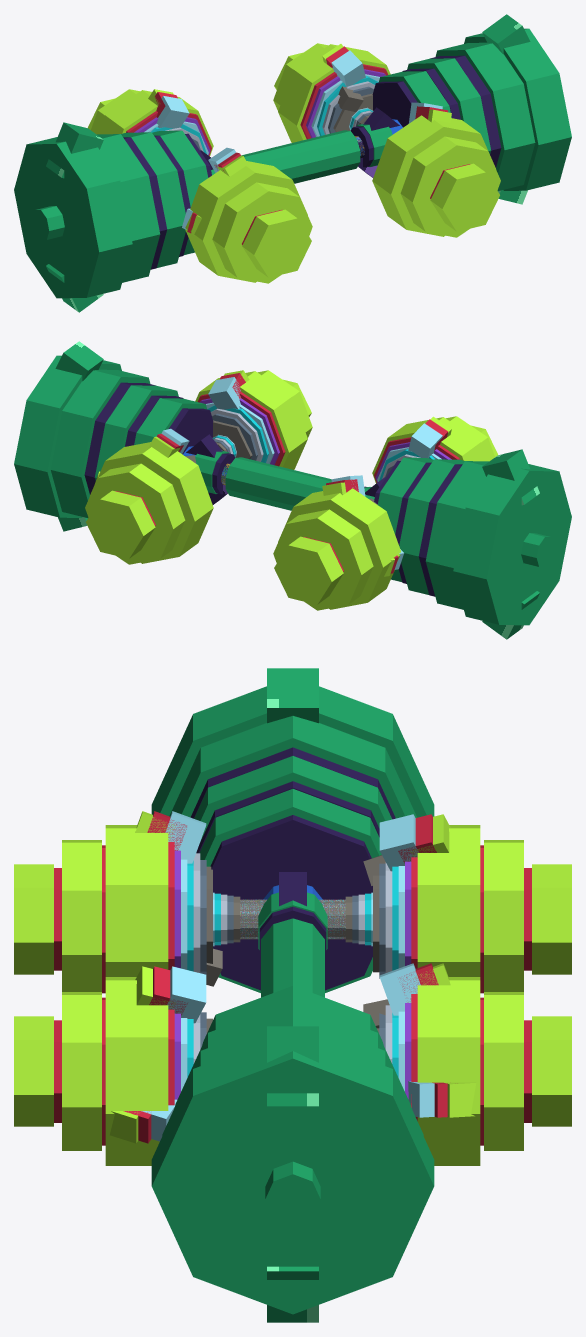
File: KLC_StrengthTools.fbx
The picture shows the model from 3 angles, top to bottom: view 1: azimuth 30°, elevation 25°; view 2: azimuth 150°, elevation 25°; view 3: azimuth 270°, elevation 25°; orthographic projection. The views are drawn at different scales.
Parts seen in each view (by area): view 1: T14_L_Plate_1, T14_R_Plate_1, T14_R_Plate_2, T15_R_Plate_B, T15_L_Outer_B, T15_R_Outer_B, T14_L_Plate_2, T15_L_Plate_B, T14_CenterGrip, T15_L_Core_B, T15_R_Core_B, T14_L_Plate_3 (+28 smaller); view 2: T14_L_Plate_1, T14_R_Plate_1, T14_R_Plate_2, T15_R_Plate_A, T15_L_Outer_A, T15_R_Outer_A, T15_L_Plate_A, T14_L_Plate_2, T14_CenterGrip, T15_L_Core_A, T15_R_Core_A, T14_L_Plate_3 (+28 smaller); view 3: T14_R_Plate_1, T12_L_Plate_4, T15_R_Plate_A, T15_L_Plate_B, T15_R_Plate_B, T14_L_Plate_1, T15_L_Plate_A, T14_L_Plate_2, T15_R_Outer_A, T15_R_Outer_B, T15_L_Outer_A, T15_L_Outer_B (+37 smaller).
Part boxes in pixels (<box>): T14_L_Plate_1: <box>14,137,132,298</box>; T14_R_Plate_1: <box>464,28,571,190</box>; T14_R_Plate_2: <box>435,42,535,190</box>; T15_R_Plate_B: <box>372,115,495,236</box>; T15_L_Outer_B: <box>212,182,312,283</box>; T15_R_Outer_B: <box>400,136,500,237</box>; T14_L_Plate_2: <box>97,134,160,282</box>; T15_L_Plate_B: <box>185,161,307,282</box>; T14_CenterGrip: <box>241,130,360,183</box>; T15_L_Core_B: <box>242,209,311,277</box>; T15_R_Core_B: <box>430,163,499,231</box>; T14_L_Plate_3: <box>121,132,185,267</box>; T14_L_Plate_1: <box>453,464,571,625</box>; T14_R_Plate_1: <box>14,355,121,517</box>; T14_R_Plate_2: <box>50,369,150,517</box>; T15_R_Plate_A: <box>90,442,213,563</box>; T15_L_Outer_A: <box>273,509,373,610</box>; T15_R_Outer_A: <box>85,463,185,564</box>; T15_L_Plate_A: <box>278,488,401,609</box>; T14_L_Plate_2: <box>425,461,488,609</box>; T14_CenterGrip: <box>225,457,331,510</box>; T15_L_Core_A: <box>274,536,343,604</box>; T15_R_Core_A: <box>86,490,155,558</box>; T14_L_Plate_3: <box>399,459,464,594</box>; T14_R_Plate_1: <box>151,1041,434,1314</box>; T12_L_Plate_4: <box>210,815,372,990</box>; T15_R_Plate_A: <box>417,977,480,1165</box>; T15_L_Plate_B: <box>105,825,168,976</box>; T15_R_Plate_B: <box>105,977,168,1165</box>; T14_L_Plate_1: <box>151,686,434,817</box>; T15_L_Plate_A: <box>417,825,480,976</box>; T14_L_Plate_2: <box>169,716,416,818</box>; T15_R_Outer_A: <box>484,992,523,1150</box>; T15_R_Outer_B: <box>62,992,101,1150</box>; T15_L_Outer_A: <box>484,840,523,991</box>; T15_L_Outer_B: <box>62,840,101,991</box>.
Bounding box in the file's own units: 151 × 51.09 × 87.17.
15 materials, 15 textured.
